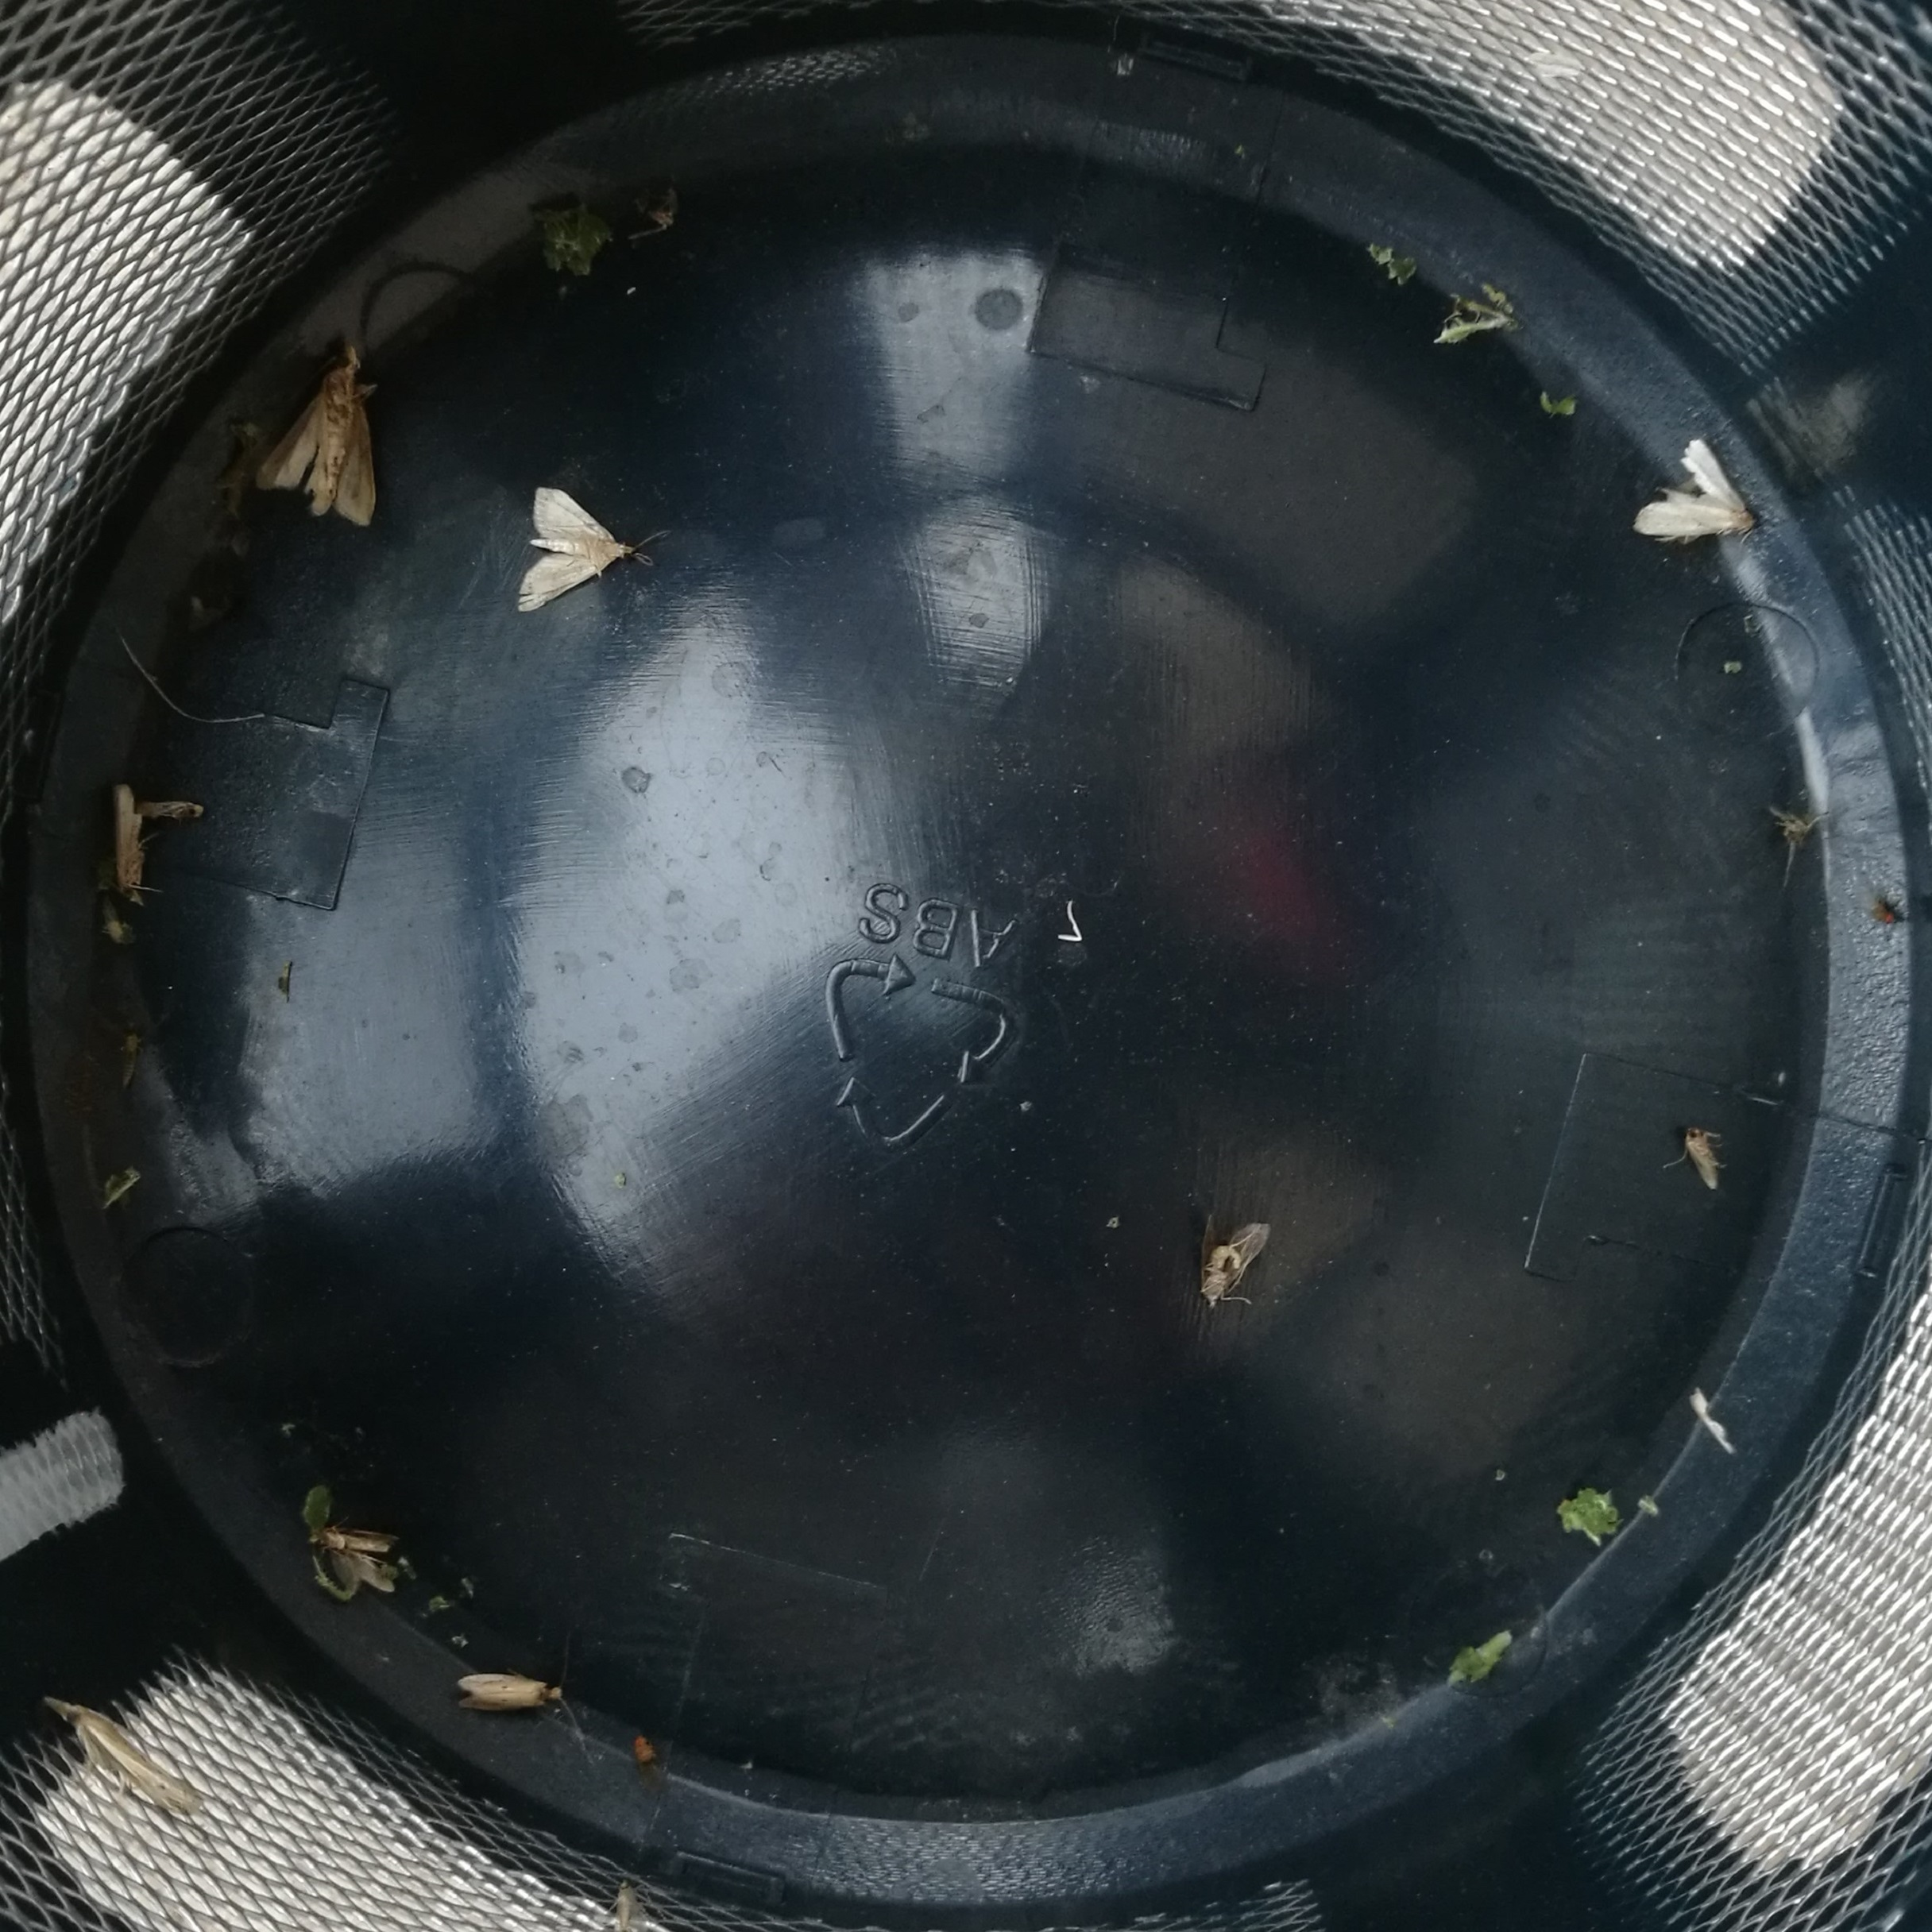mosquito: (458, 1675, 559, 1714), (117, 784, 143, 904), (1691, 1129, 1718, 1191)
moth: (253, 368, 377, 527), (518, 487, 635, 612), (1633, 441, 1753, 533)
